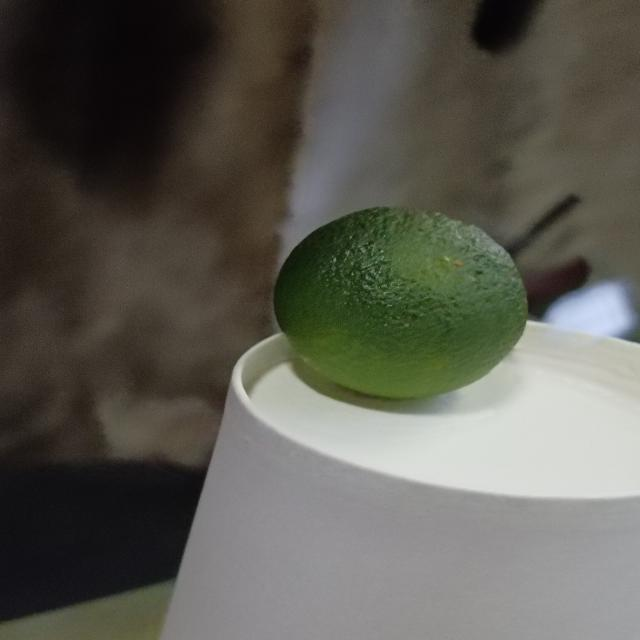heathy: (269, 204, 539, 410)
